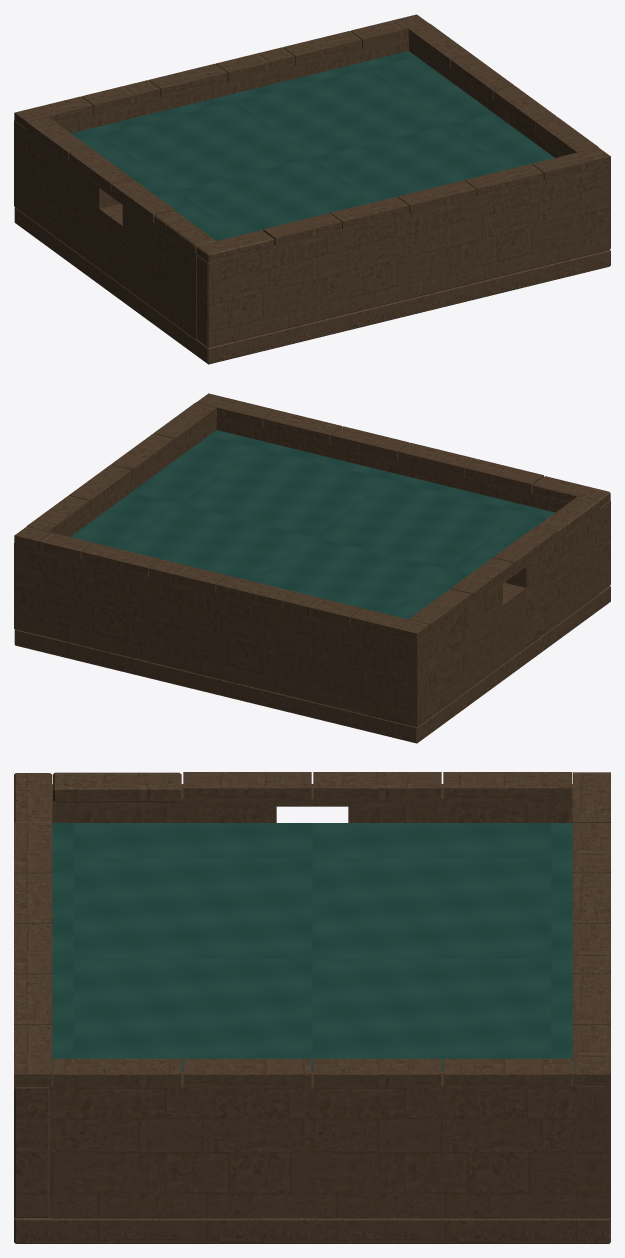
File: d_drinking_cistern.glb
The picture shows the model from 3 angles, top to bottom: view 1: azimuth 30°, elevation 25°; view 2: azimuth 150°, elevation 25°; view 3: azimuth 270°, elevation 25°; orthographic projection. The views are drawn at different scales.
Parts seen in each view (by area): view 1: basin foundation, WaterSurface, ported retaining wall-colonly.001, ported retaining wall-colonly.005, ported retaining wall-colonly.006, long coping block-colonly.002, long coping block-colonly.009, long coping block-colonly.011, long coping block-colonly.010, long coping block-colonly.001, short coping block-colonly.007, ported retaining wall-colonly.002 (+2 smaller); view 2: basin foundation, WaterSurface, ported retaining wall-colonly.005, ported retaining wall-colonly.002, ported retaining wall-colonly.001, short coping block-colonly.003, long coping block-colonly.003, long coping block-colonly.006, long coping block-colonly.009, short coping block-colonly.001, long coping block-colonly.010, long coping block-colonly.002; view 3: basin foundation, WaterSurface, ported retaining wall-colonly.006, ported retaining wall-colonly.005, short coping block-colonly.006, short coping block-colonly.007, short coping block-colonly.004, short coping block-colonly.005, short coping block-colonly.003, short coping block-colonly.001, short coping block-colonly.002, long coping block-colonly.004 (+1 smaller).
Boxes of the visible parts, x1,y1,x2,y2 form: basin foundation: (14,15,610,364); WaterSurface: (71,51,554,240); ported retaining wall-colonly.001: (122,201,196,339); ported retaining wall-colonly.005: (14,39,408,214); ported retaining wall-colonly.006: (409,39,566,157); long coping block-colonly.002: (330,196,409,231); long coping block-colonly.009: (216,47,294,82); long coping block-colonly.011: (350,14,428,49); long coping block-colonly.010: (283,31,361,65); long coping block-colonly.001: (263,213,341,246); short coping block-colonly.007: (408,23,471,68); ported retaining wall-colonly.002: (25,129,119,268); basin foundation: (14,394,610,743); WaterSurface: (71,430,554,619); ported retaining wall-colonly.005: (14,543,428,727); ported retaining wall-colonly.002: (429,580,502,718); ported retaining wall-colonly.001: (506,508,599,647); short coping block-colonly.003: (408,588,471,631); long coping block-colonly.003: (330,426,409,461); long coping block-colonly.006: (350,608,429,642); long coping block-colonly.009: (149,559,227,593); short coping block-colonly.001: (493,527,556,570); long coping block-colonly.010: (81,543,160,576); long coping block-colonly.002: (398,442,476,477); basin foundation: (14,772,610,1243); WaterSurface: (52,823,572,1071); ported retaining wall-colonly.006: (49,1071,575,1218); ported retaining wall-colonly.005: (575,1086,610,1218); short coping block-colonly.006: (313,1058,441,1089); short coping block-colonly.007: (443,1058,571,1089); short coping block-colonly.004: (53,1058,181,1089); short coping block-colonly.005: (183,1058,311,1089); short coping block-colonly.003: (443,772,571,803); short coping block-colonly.001: (183,772,311,803); short coping block-colonly.002: (313,772,441,803); long coping block-colonly.004: (14,974,52,1024).
Size of what is drawn, in the model's own units: 6 by 1.57 by 5.
Materials: 2 (2 with a texture image).
